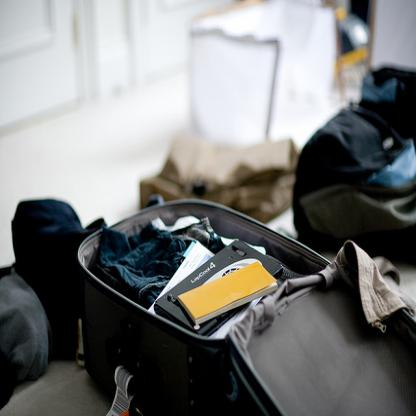backpack: (292, 98, 416, 251), (11, 198, 108, 357)
suitcase: (77, 197, 415, 411), (9, 194, 88, 360)
